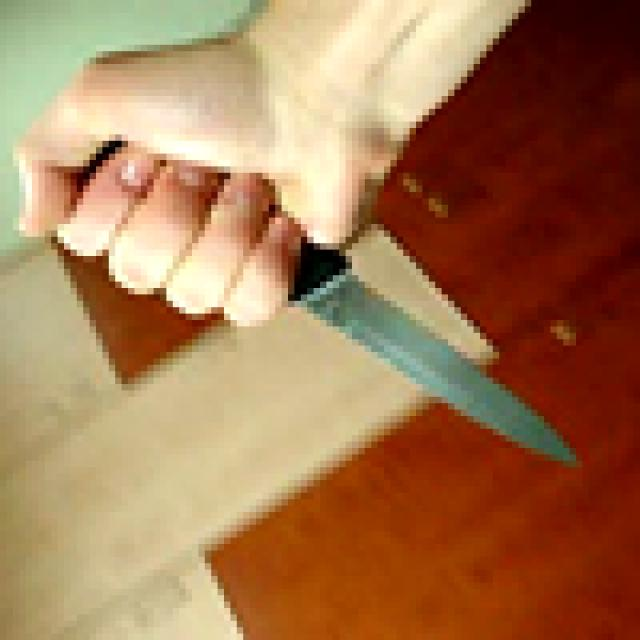weapon: (102, 128, 576, 461)
